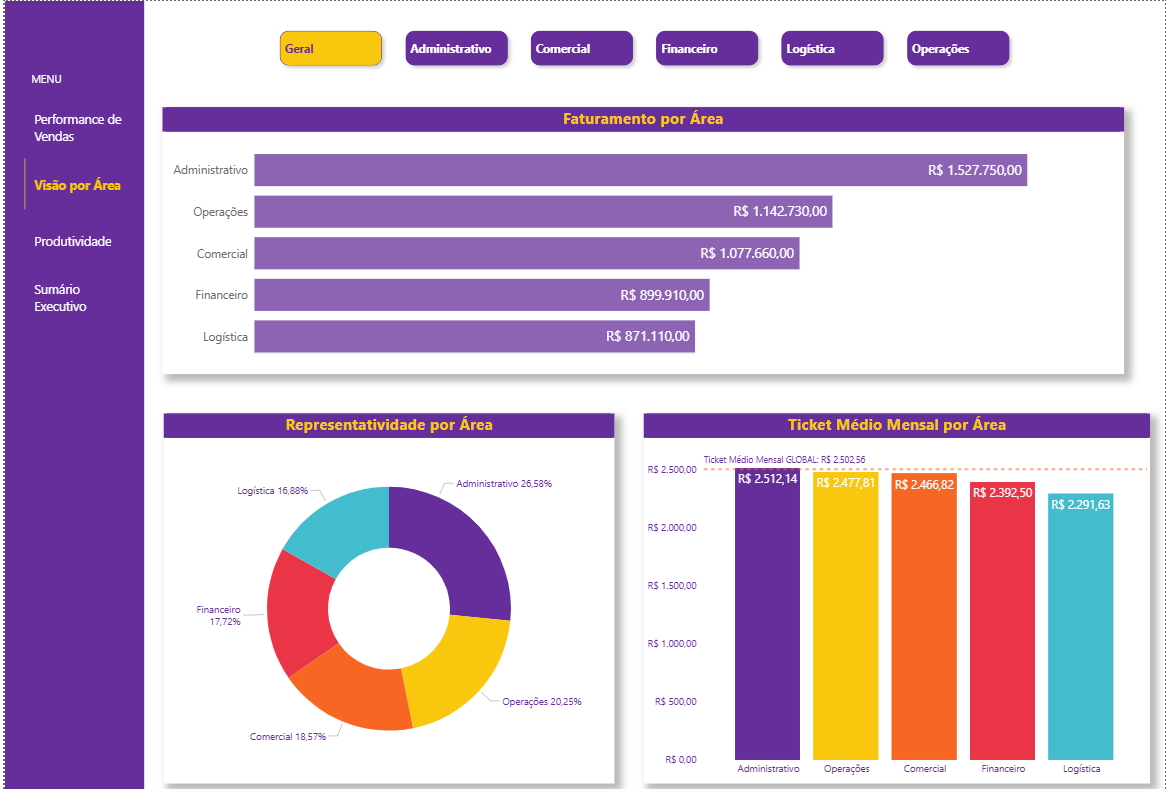

The dashboard page shown, as its layout file describes it:
{"tool":"powerbi","page":{"name":"Visão por Área","canvas":[1600,1100],"ordinal":2},"visuals":[{"type":"shape","box":[0,0,192,1100],"z":0},{"type":"shape","box":[36.7,84,100,44],"z":1000},{"type":"actionButton","box":[36.7,143.6,132,63],"z":2000},{"type":"actionButton","box":[36.7,222.2,132.2,62.2],"z":3000},{"type":"shape","box":[16.7,217.8,20,70],"z":4000},{"type":"advancedSlicerVisual","fields":{"Values":["Ranking_Top5_Vendas.Area"]},"box":[361.2,23.8,1040,82.5],"z":5000},{"type":"clusteredBarChart","title":"Faturamento  por Área","fields":{"Category":["CadastroFuncionarios.Area"],"Y":["Sum(Contratos Sumarizados.Valor Total Contratos Fechados )"]},"box":[218,146,1326,368],"z":6000},{"type":"donutChart","title":"Representatividade por Área","fields":{"Y":["Tab Medidas.Total Contratos Fechados"],"Category":["CadastroFuncionarios.Area"]},"box":[218.3,568.3,621.7,510],"z":7000},{"type":"clusteredColumnChart","title":"Ticket Médio Mensal por Área","fields":{"Category":["CadastroFuncionarios.Area"],"Y":["Tab Medidas.Ticket Médio Mensal"]},"box":[881.7,568.3,698.3,510],"z":8000},{"type":"actionButton","box":[36.7,300,132.2,62.2],"z":9000},{"type":"actionButton","box":[36.7,377.8,132.2,62.2],"z":10000}]}

Visuals, with their boxes in screenshot pixels (x1, y1, x2, y2), scaled from the page's 1600x1100 canvas onto the 1166x789 screenshot:
shape: [0, 0, 140, 788]
shape: [27, 60, 100, 92]
actionButton: [27, 103, 123, 148]
actionButton: [27, 159, 123, 204]
shape: [12, 156, 27, 206]
advancedSlicerVisual - Ranking_Top5_Vendas.Area: [263, 17, 1021, 76]
"Faturamento  por Área" clusteredBarChart: [159, 105, 1125, 369]
"Representatividade por Área" donutChart: [159, 408, 612, 773]
"Ticket Médio Mensal por Área" clusteredColumnChart: [643, 408, 1151, 773]
actionButton: [27, 215, 123, 260]
actionButton: [27, 271, 123, 316]
